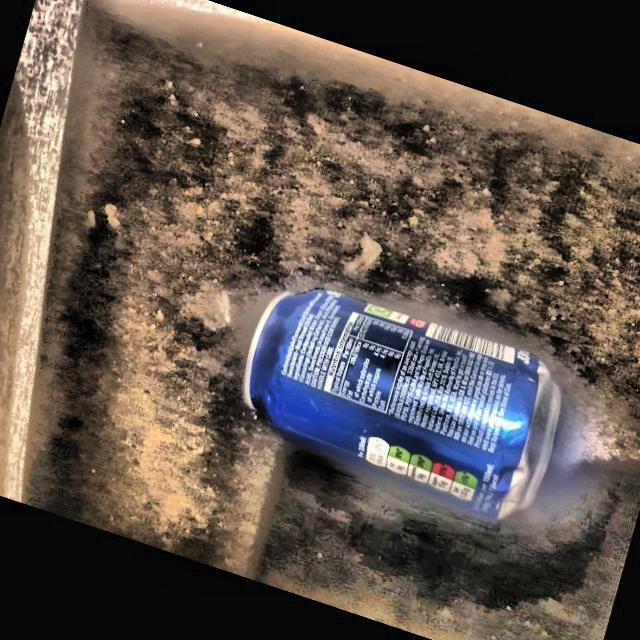pepsi-can: (236, 283, 566, 531)
